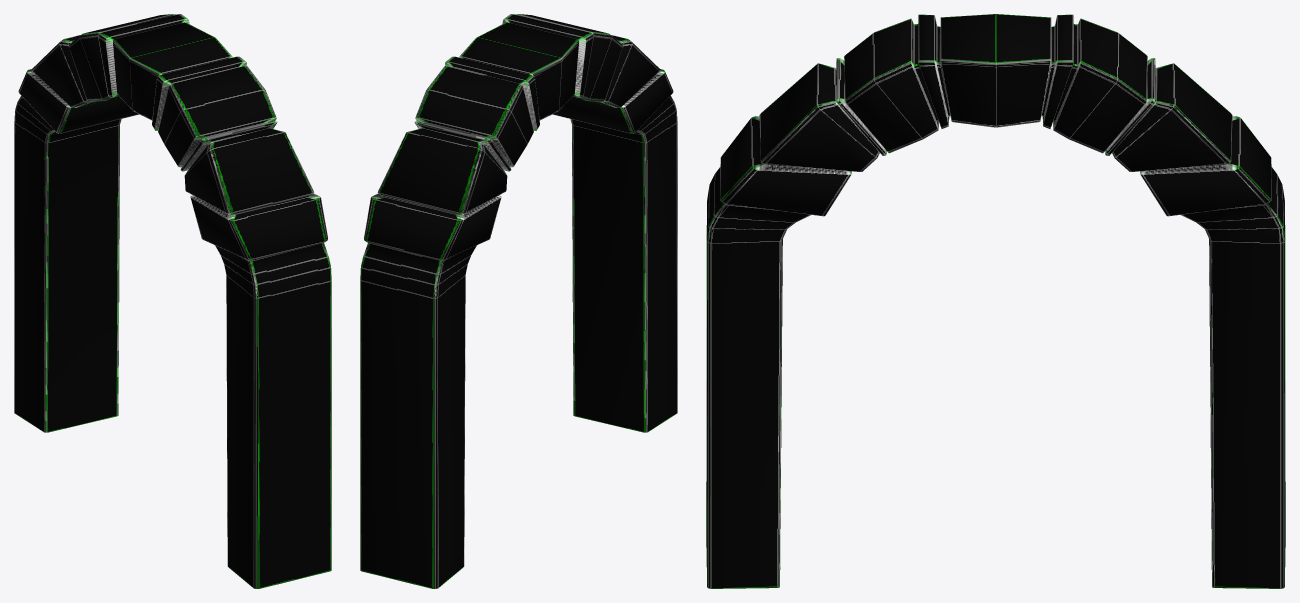
File: arch_export.fbx
3 renders of one model, left to right at view 1: azimuth 30°, elevation 25°; view 2: azimuth 150°, elevation 25°; view 3: azimuth 270°, elevation 25°, orthographic. The views are drawn at different scales.
Visible parts, largest first — view 1: C-Ext001; view 2: C-Ext001; view 3: C-Ext001.
Part boxes in pixels (box(x1,y1,x2,y2)): C-Ext001: box(14, 14, 331, 588); C-Ext001: box(360, 14, 677, 588); C-Ext001: box(706, 14, 1285, 588).
Bounding box in the file's own units: 2.22 × 10.15 × 10.07.
Materials: 1 (1 with a texture image).
